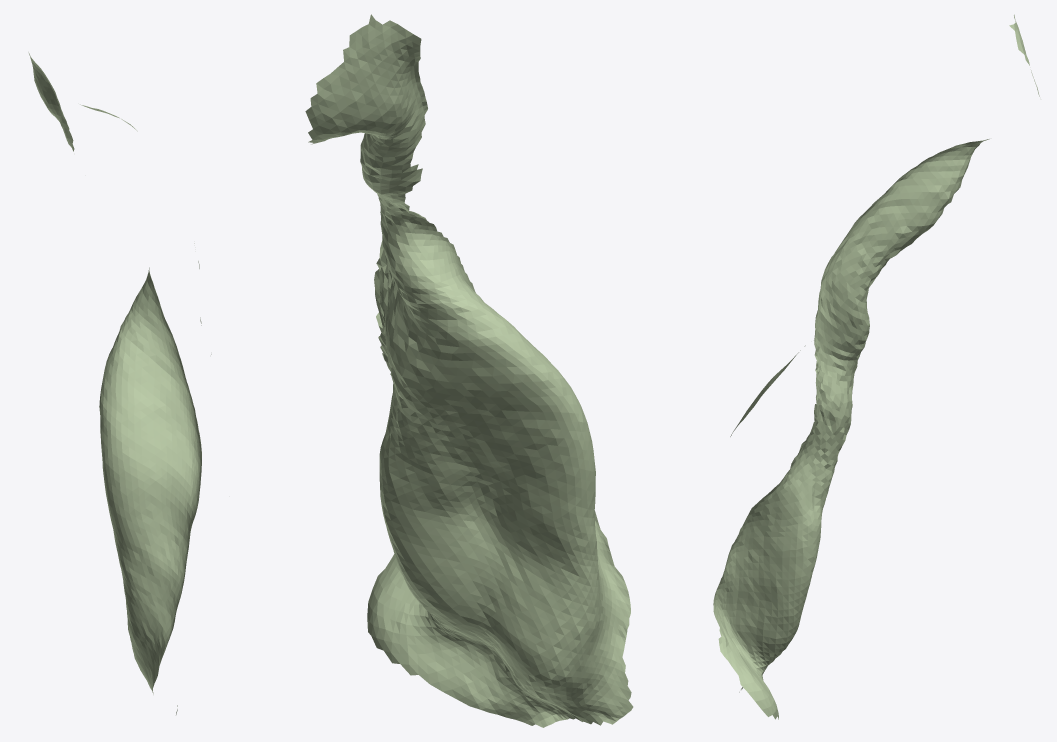
Rendered from rh_fusiform.glb.
3 renders of one model, left to right at view 1: azimuth 30°, elevation 25°; view 2: azimuth 150°, elevation 25°; view 3: azimuth 270°, elevation 25°, orthographic. The views are drawn at different scales.
Visible parts, largest first — view 1: world; view 2: world; view 3: world.
Part boxes in pixels (x1,y1,x2,y2): world: (28, 52, 211, 714); world: (305, 14, 633, 727); world: (713, 14, 1039, 719).
Size of the model in its own units: 23.71 by 85.49 by 42.06.
